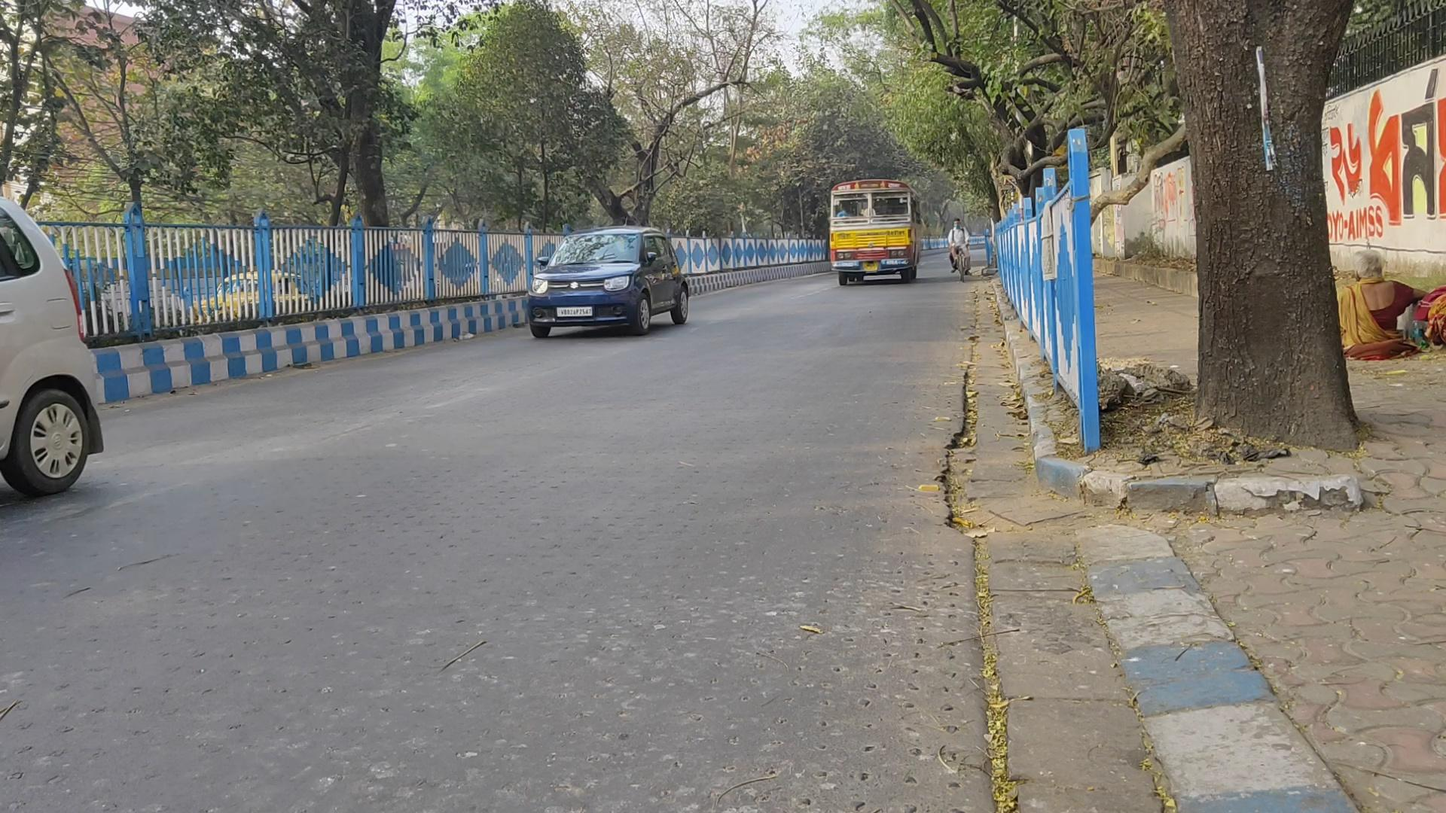Bus: (827, 178, 924, 285)
bike: (947, 216, 973, 282)
car: (529, 227, 690, 340)
